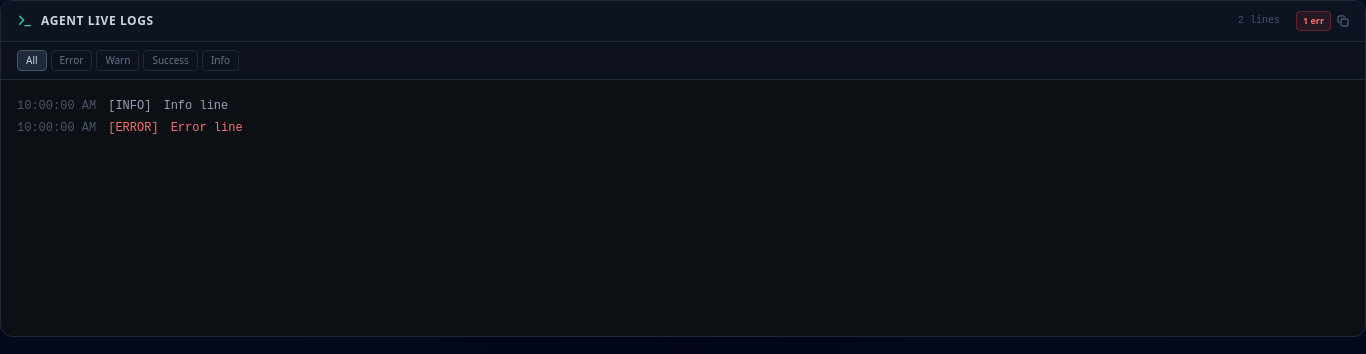
it: AgentLogsPanel — level filter › filters to error logs when error pill clicked
Click the button "error": click(72, 60) [51,50,92,70]
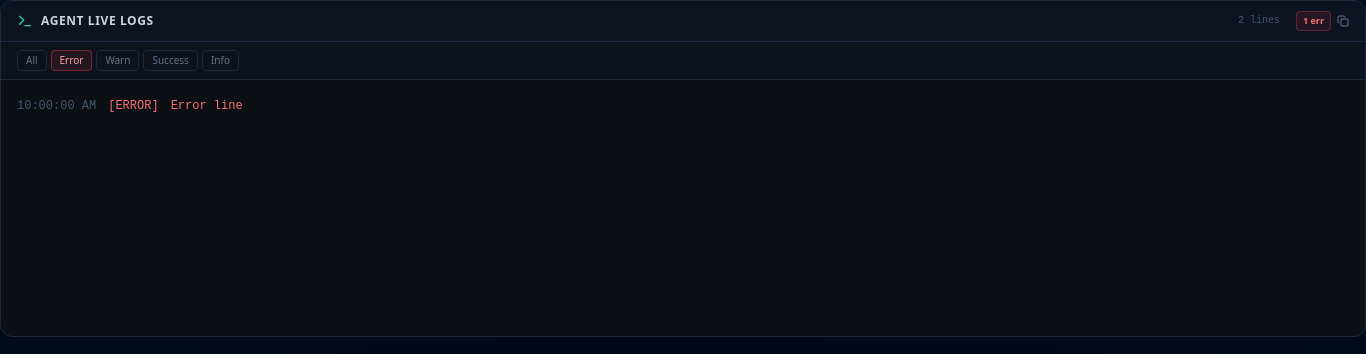
Expected: the text "Error line" is shown, [171,96,243,116]
Expected: the text "Info line" is gone
